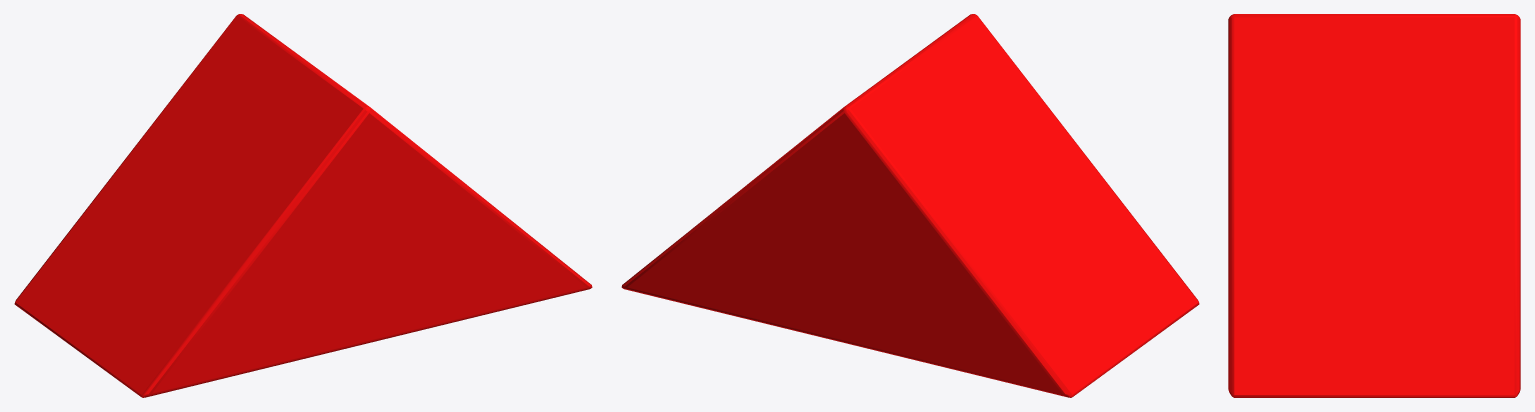
The model's file is 2SidedWedgeRed.fbx.
3 views of the same model, side by side, from view 1: azimuth 30°, elevation 25°; view 2: azimuth 150°, elevation 25°; view 3: azimuth 270°, elevation 25° (orthographic). The views are drawn at different scales.
Visible parts, largest first — view 1: Wedge.001; view 2: Wedge.001; view 3: Wedge.001.
Part boxes in pixels (left/top/right/bottom): Wedge.001: left=14, top=14, right=592, bottom=397; Wedge.001: left=621, top=14, right=1199, bottom=397; Wedge.001: left=1228, top=14, right=1520, bottom=397.
Bounding box in the file's own units: 3.95 × 1.98 × 2.
